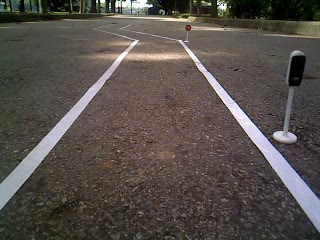Blue: (286, 48, 308, 89)
